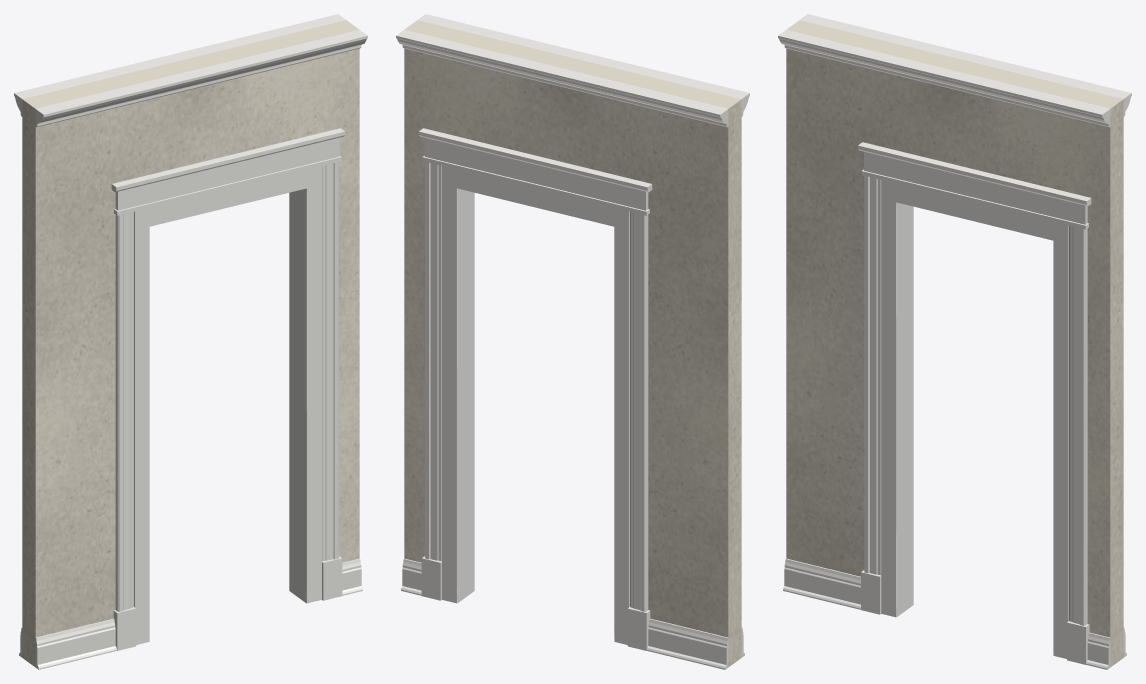
Rendered from interior_wall_end_doorway.glb.
3 views of the same model, side by side, from view 1: azimuth 30°, elevation 25°; view 2: azimuth 150°, elevation 25°; view 3: azimuth 330°, elevation 25° (orthographic).
Visible parts, largest first — view 1: interior_wall_end_doorway_plaster, molduras, interior_wall_end_doorway_frame; view 2: interior_wall_end_doorway_plaster, molduras, interior_wall_end_doorway_frame; view 3: interior_wall_end_doorway_plaster, molduras, interior_wall_end_doorway_frame.
Part boxes in pixels (box(x1,y1,x2,y2)): interior_wall_end_doorway_plaster: box(22, 20, 359, 667); molduras: box(14, 14, 367, 669); interior_wall_end_doorway_frame: box(134, 166, 321, 644); interior_wall_end_doorway_plaster: box(404, 20, 741, 667); molduras: box(396, 14, 749, 669); interior_wall_end_doorway_frame: box(442, 166, 629, 644); interior_wall_end_doorway_plaster: box(786, 20, 1123, 667); molduras: box(778, 14, 1131, 669); interior_wall_end_doorway_frame: box(881, 180, 1068, 658).
Size of the model in its own units: 1.7 by 2.8 by 0.27.
3 materials, 1 textured.
